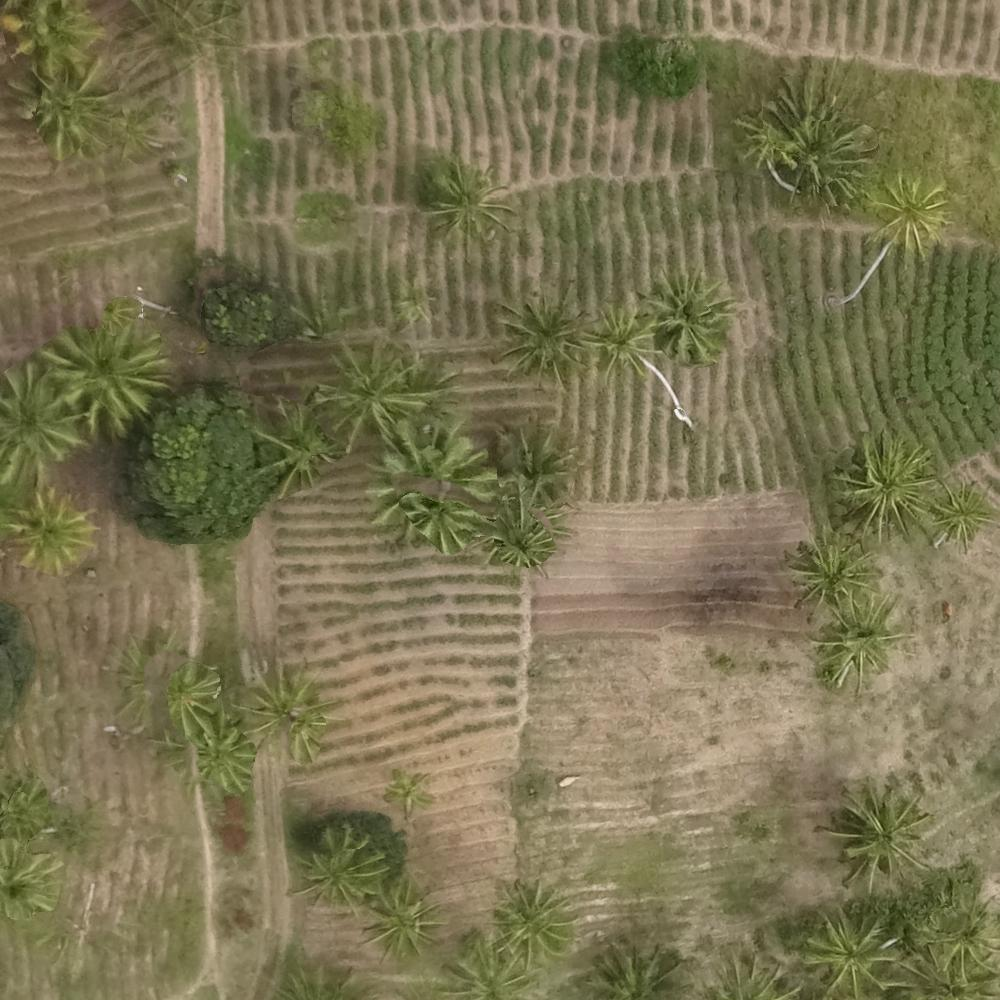Palm: (764, 81, 878, 201), (40, 319, 164, 429), (313, 346, 421, 448), (821, 782, 928, 883), (831, 433, 930, 540), (13, 62, 117, 157), (799, 909, 907, 998), (1, 362, 84, 475), (249, 397, 344, 493), (497, 294, 594, 388), (646, 273, 737, 365), (810, 597, 901, 688), (418, 162, 515, 246), (244, 669, 332, 760), (295, 829, 388, 915), (786, 531, 879, 616), (486, 880, 578, 962), (176, 714, 262, 796), (476, 495, 563, 576), (13, 489, 91, 574), (363, 883, 448, 960), (875, 177, 953, 254), (444, 935, 536, 1000), (928, 478, 995, 550), (583, 310, 651, 376)
